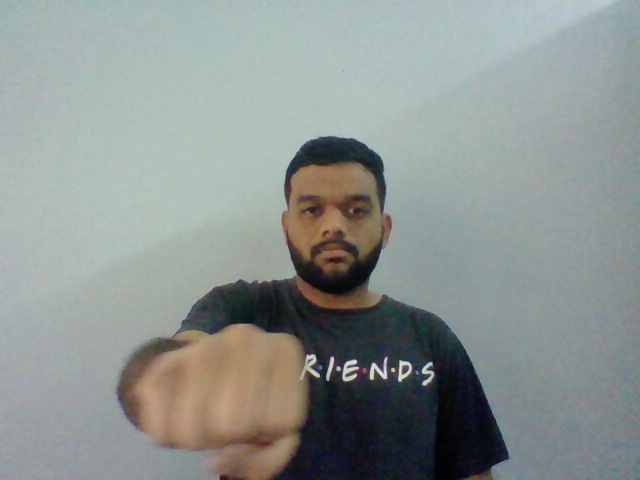Yes: (140, 321, 311, 480)
